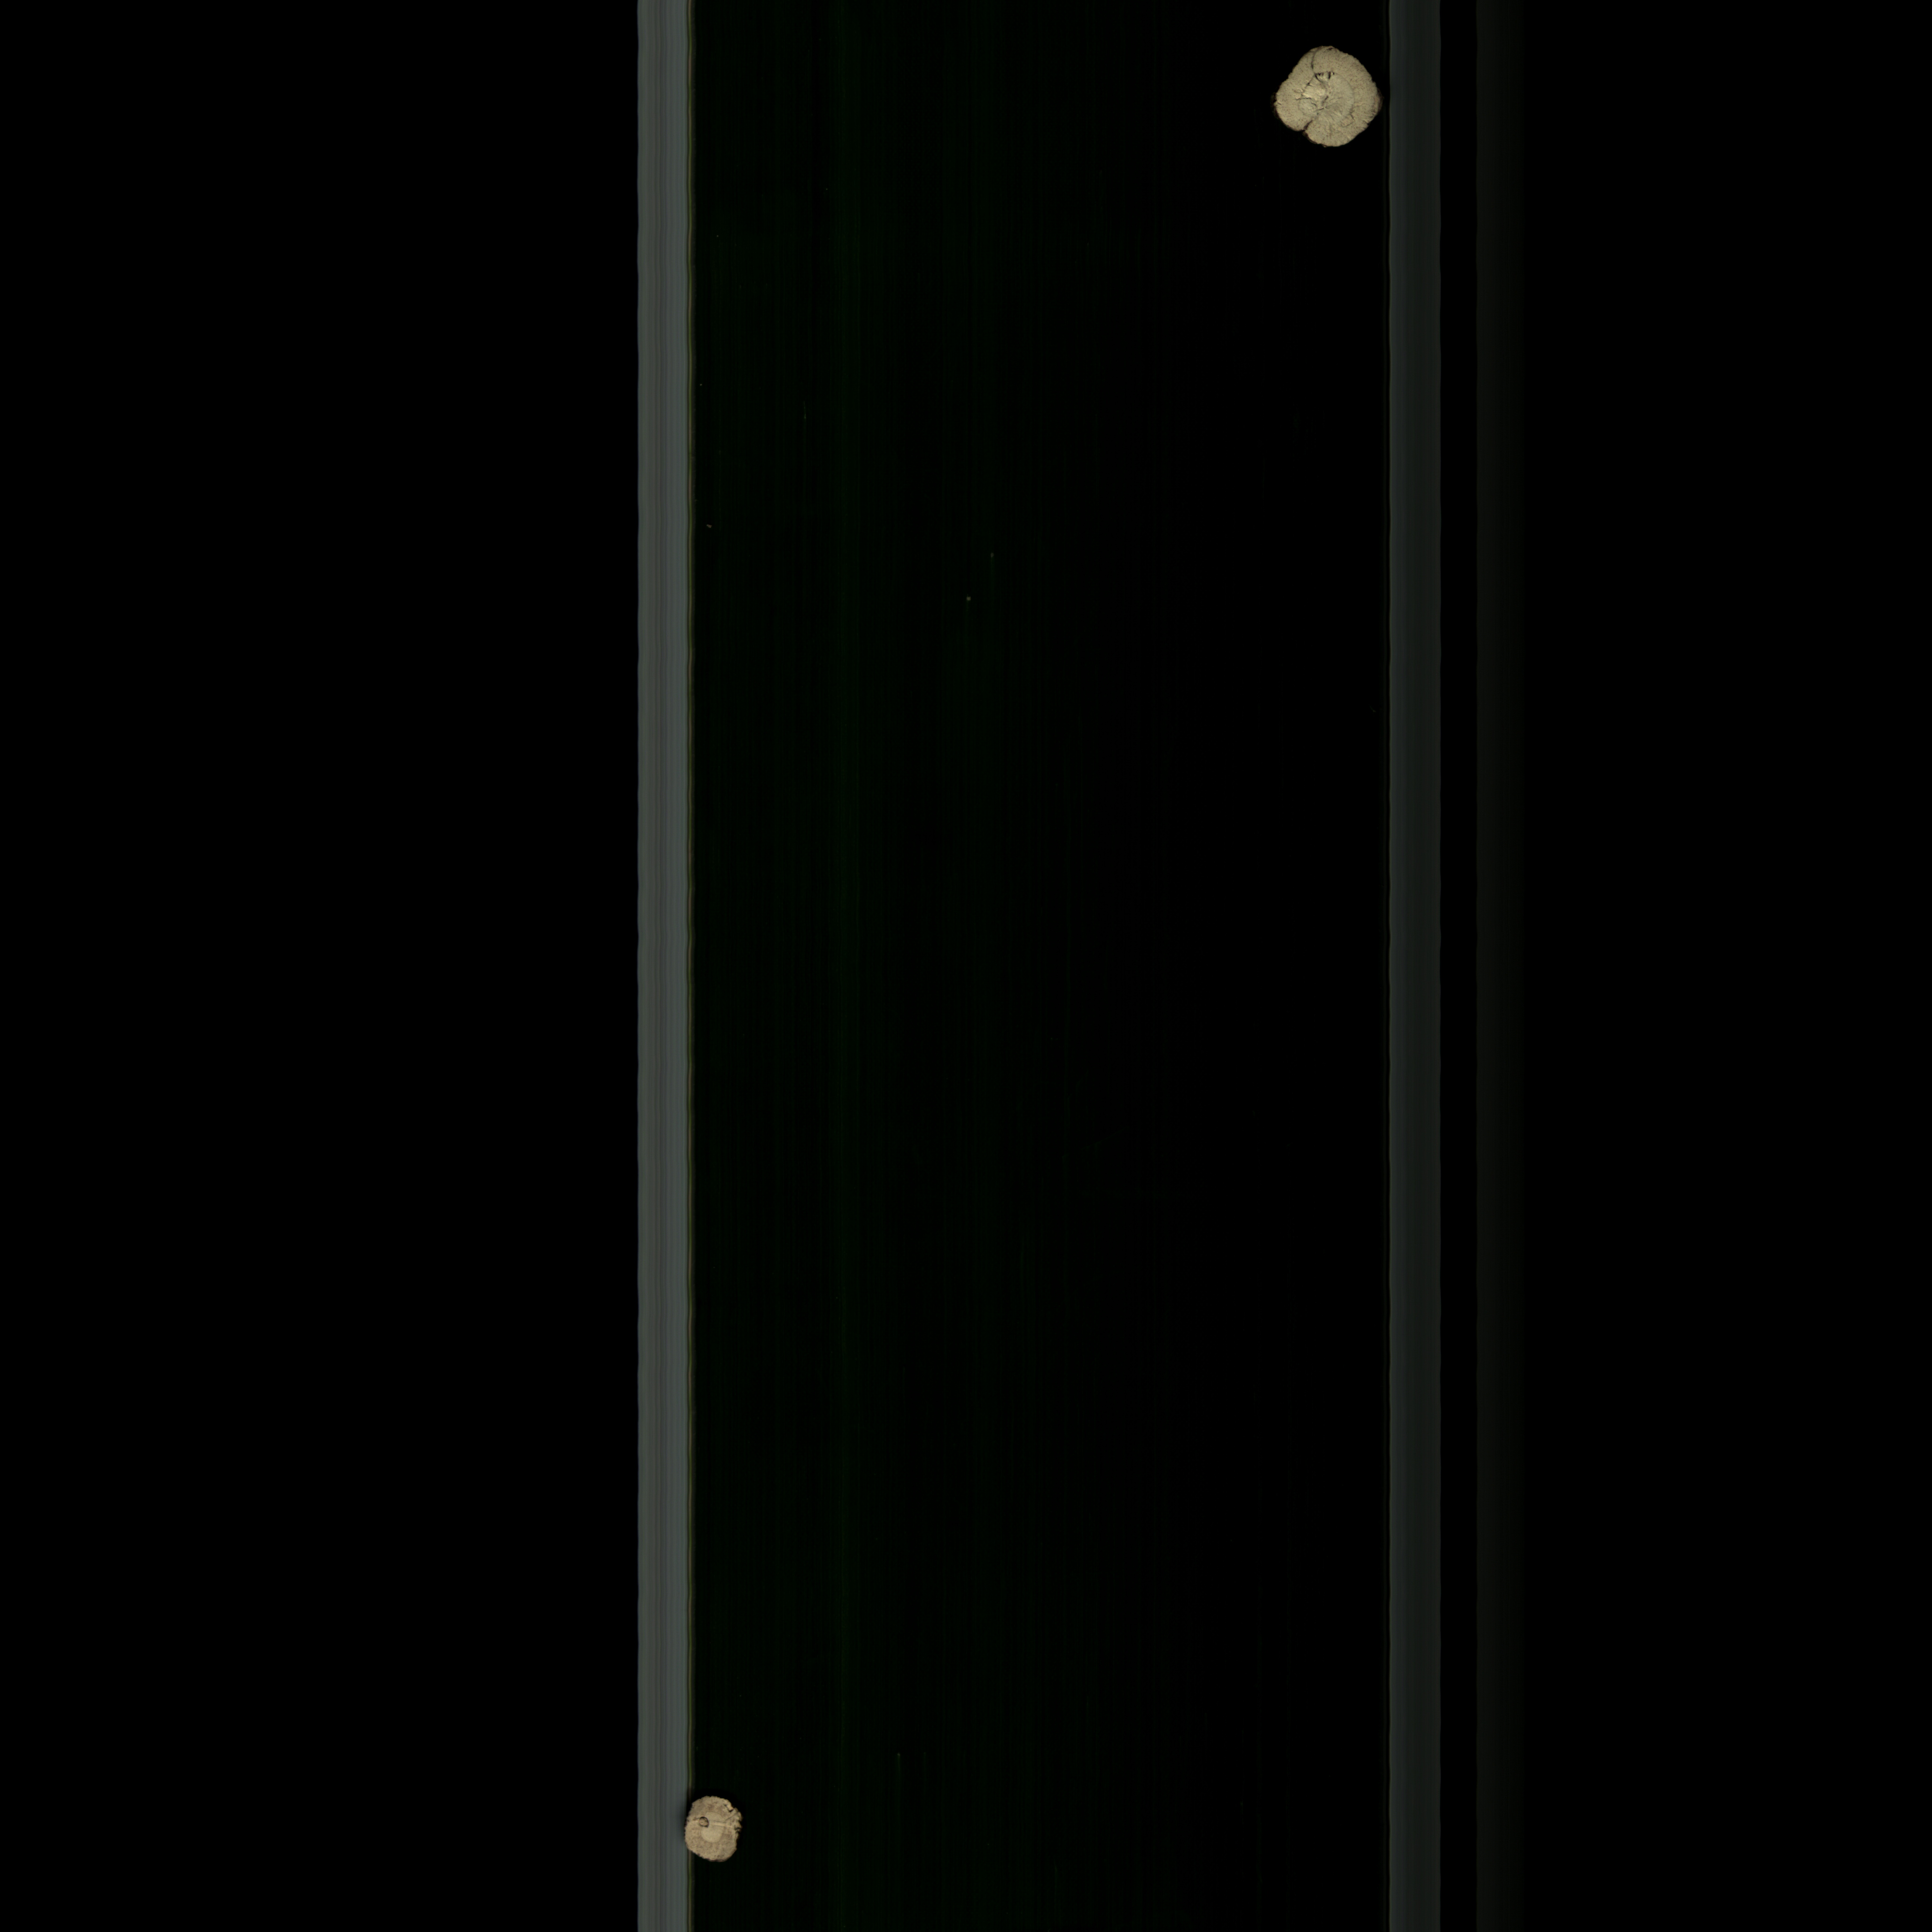hole: (1267, 37, 1382, 157), (683, 1794, 750, 1867)
